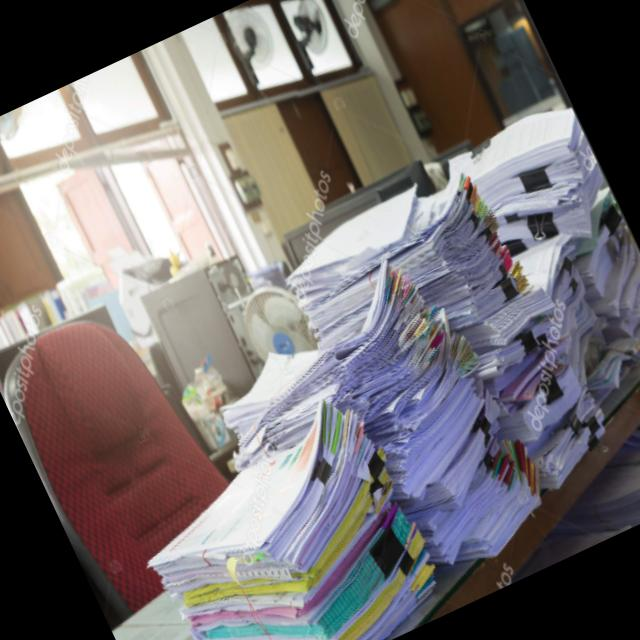KertasBekas: (41, 96, 640, 640), (180, 233, 564, 640), (113, 381, 458, 640)
